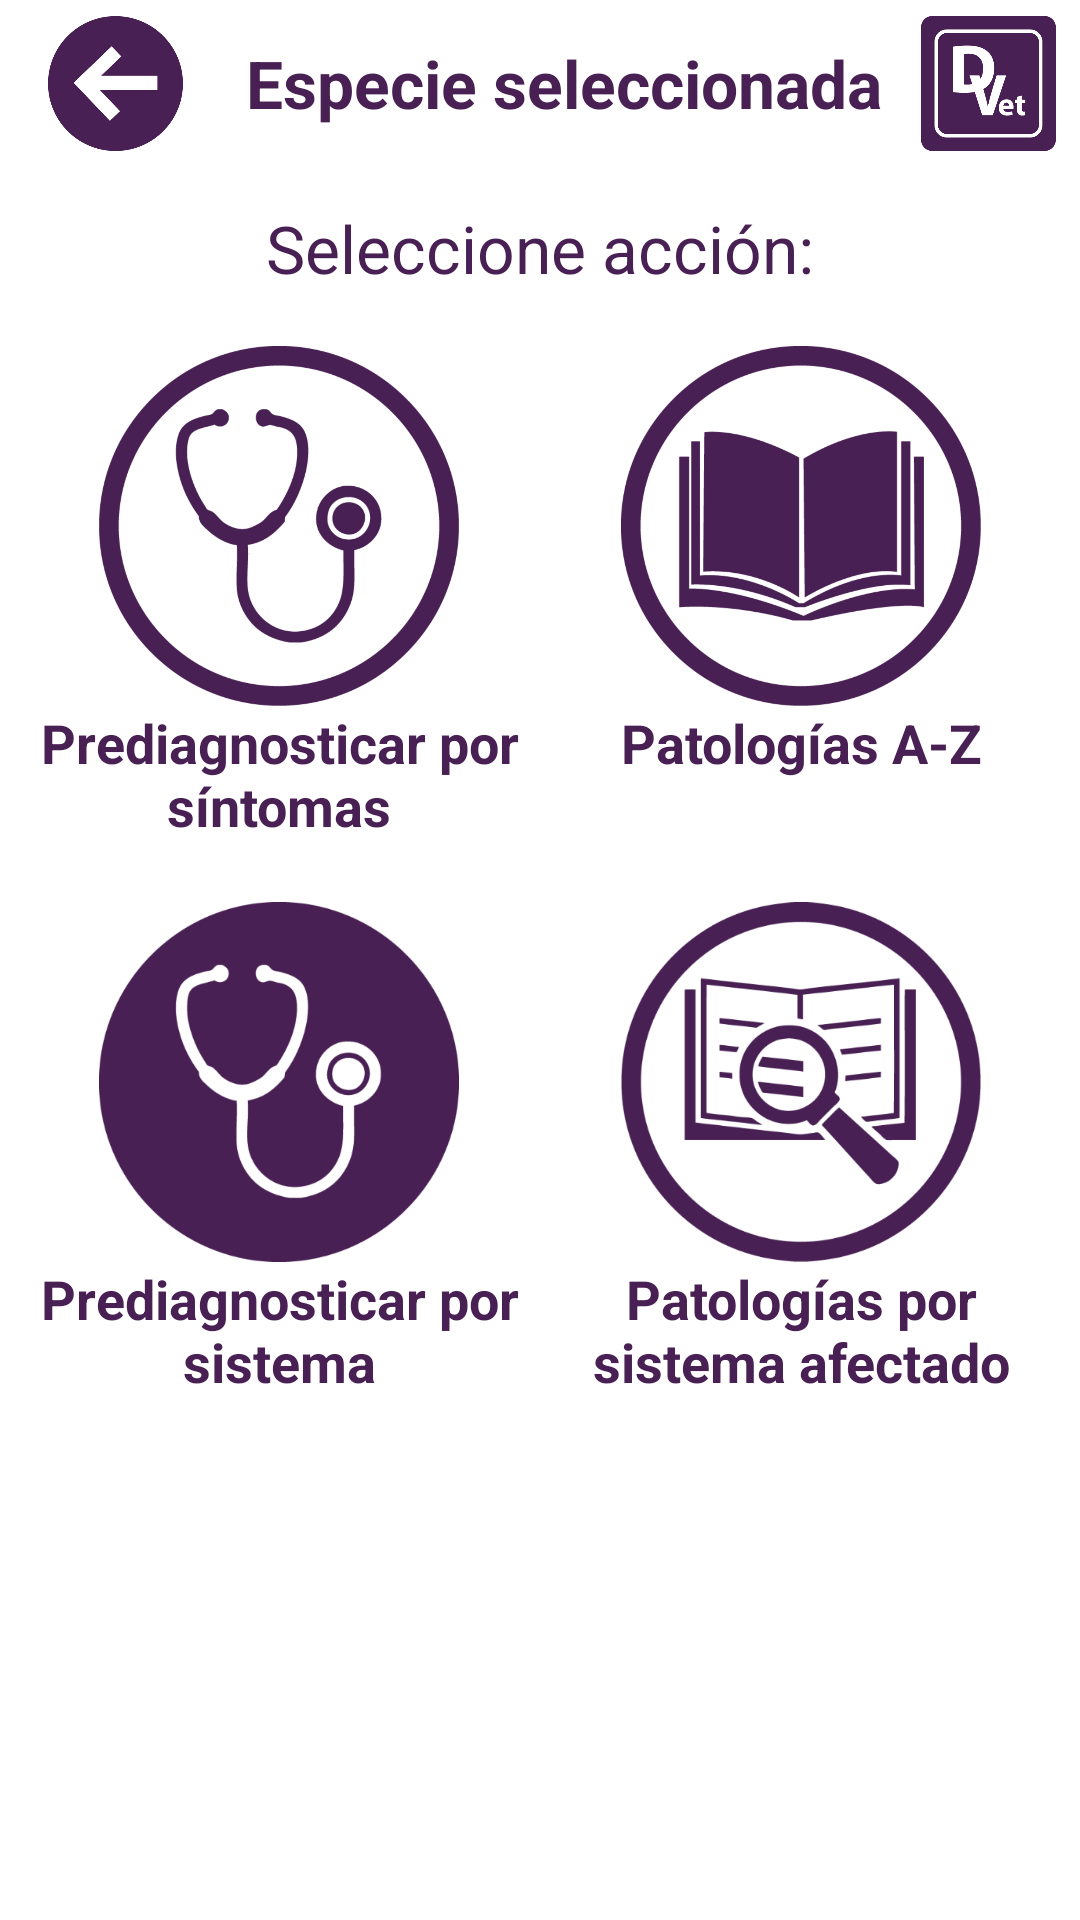

Icon click points for this 1080x1920 phone screenshot, format [x,y]:
back: [115,83]
book: [801,526]
book search: [801,1082]
estetoscopio: [279,526], [279,1082]
